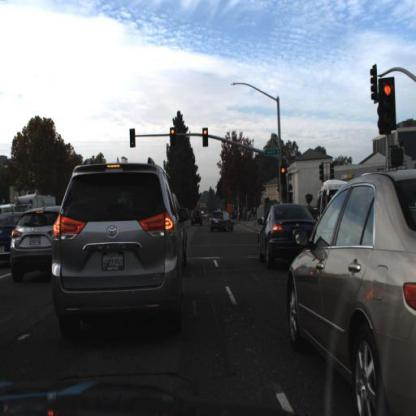car: (286, 182, 415, 414), (51, 159, 187, 334), (258, 201, 319, 271), (318, 168, 414, 210), (13, 206, 66, 279), (4, 200, 18, 276), (1, 211, 20, 266), (210, 207, 236, 240), (185, 206, 206, 226), (190, 207, 205, 227)
pedestrian: (252, 208, 259, 225)
trafficLight: (129, 126, 137, 149)
trafficLight-Red: (377, 76, 399, 141), (202, 125, 210, 149), (169, 126, 177, 147), (280, 165, 287, 185)
truck: (13, 186, 59, 218)
